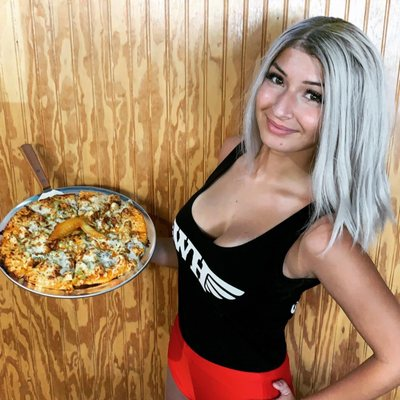sandwich: (0, 188, 150, 295)
